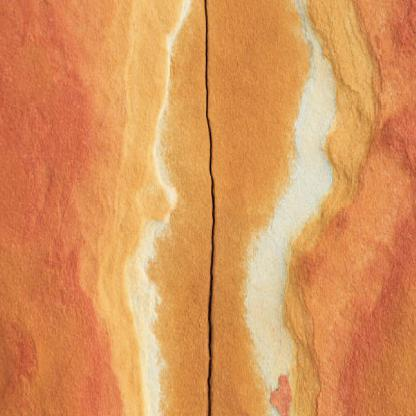Sedimentary_Sandstone: (212, 4, 415, 415), (3, 11, 207, 415)
